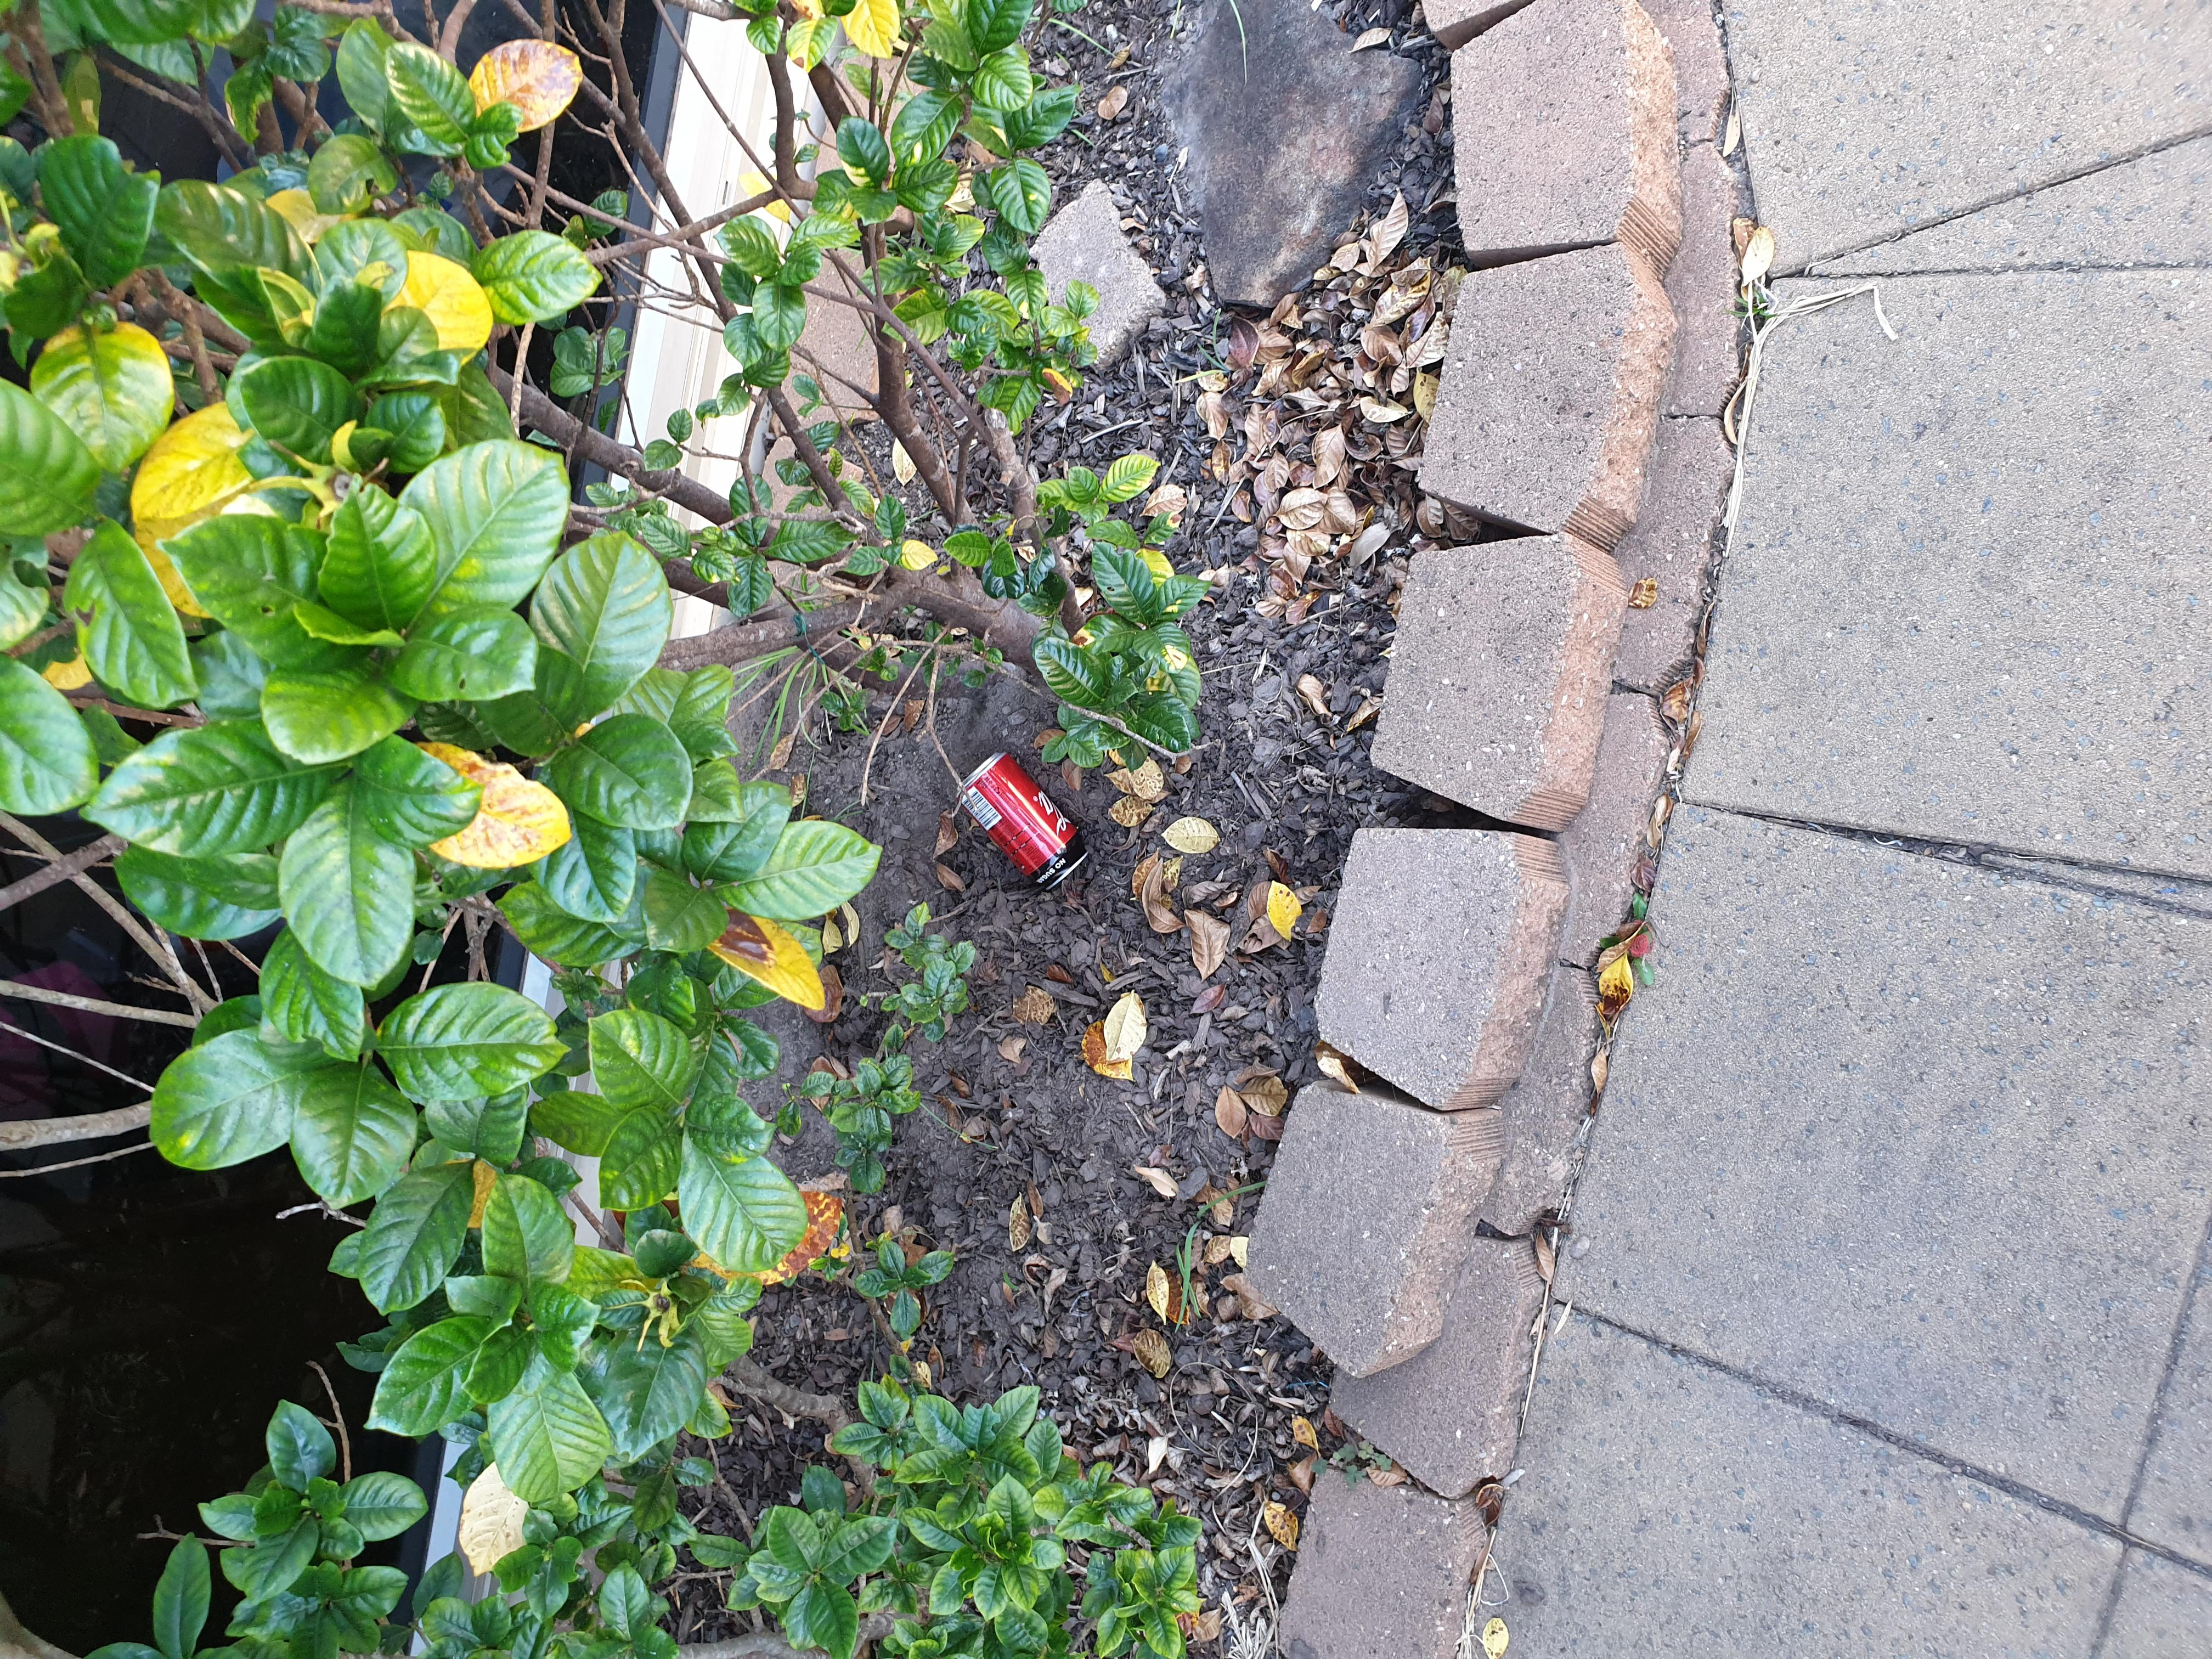Plastic Bottle: (954, 753, 1090, 890)
